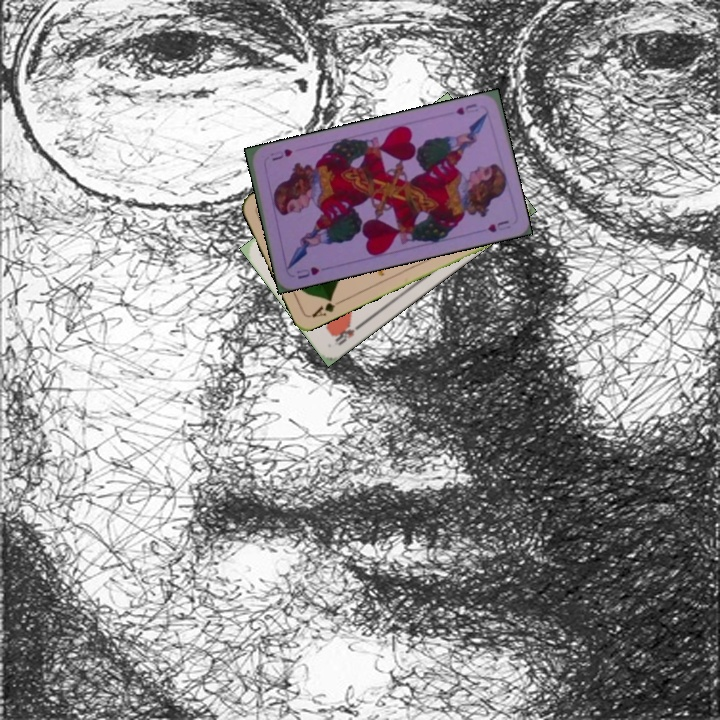GA: (308, 294, 346, 320)
HO: (331, 319, 365, 348)
HU: (292, 262, 322, 282), (451, 99, 481, 118)
